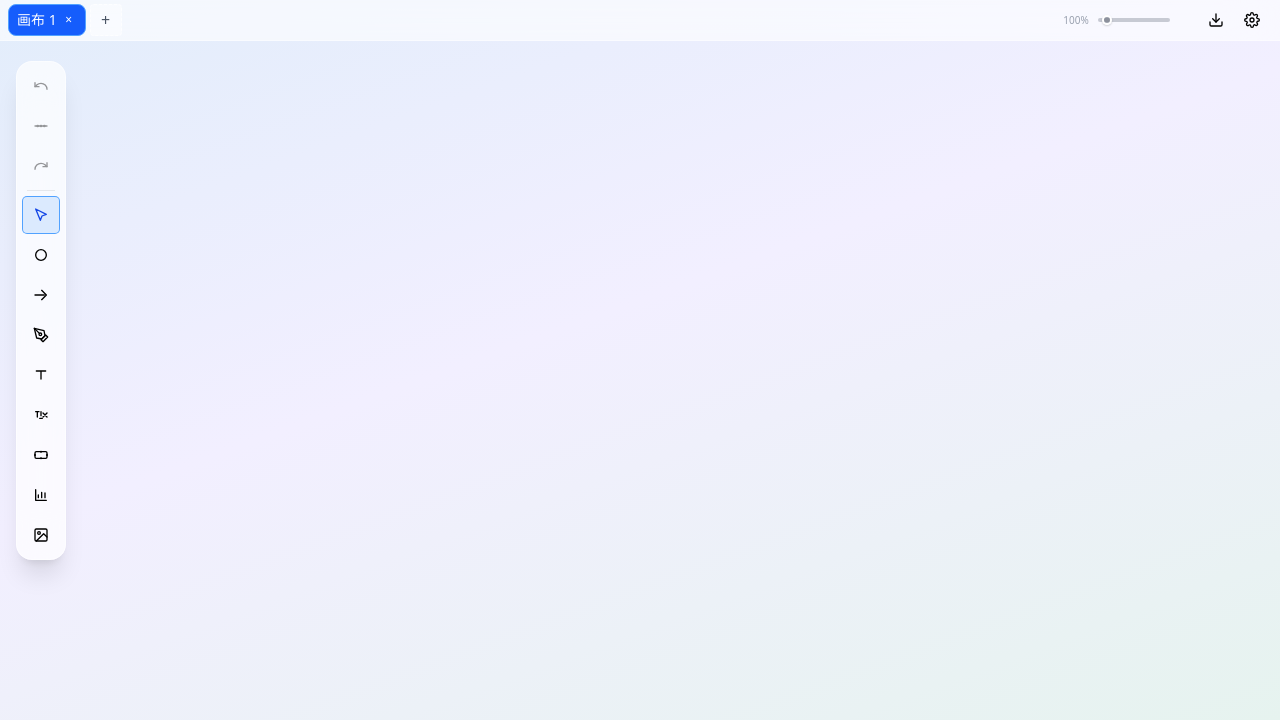
Test case: Toolbar 悬浮坞 › 点击图形按钮展开图案气泡（无逻辑分区/文字，文本框是独立按钮），再点关闭（toggle）
The width and height of the screenshot is (1280, 720).
Step 1. Click the button titled "图形" → (41, 255), box [23,237,59,273]
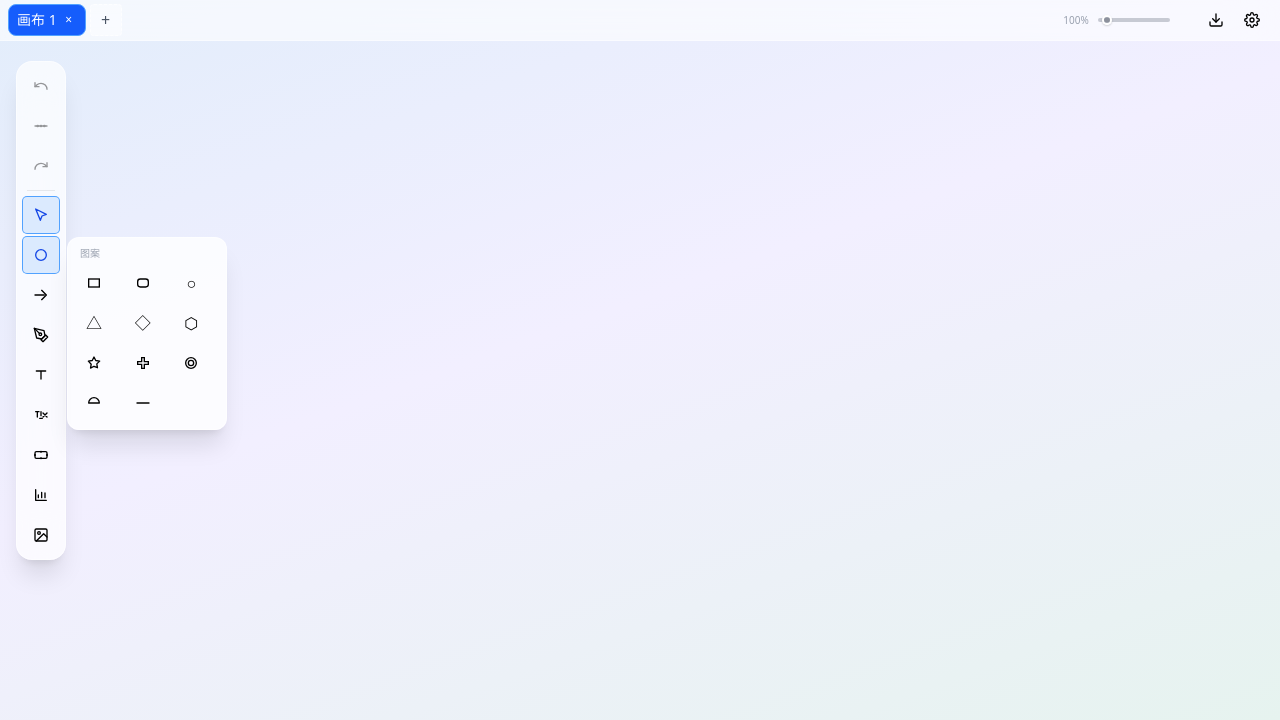
Expected: the text "图案" is shown, [80,246,100,260]
Expected: the button titled "矩形" is shown, [76,265,112,301]
Expected: the button titled "线条" is shown, [125,385,161,421]
Step 2. Click the button titled "图形" → (41, 255), box [23,237,59,273]
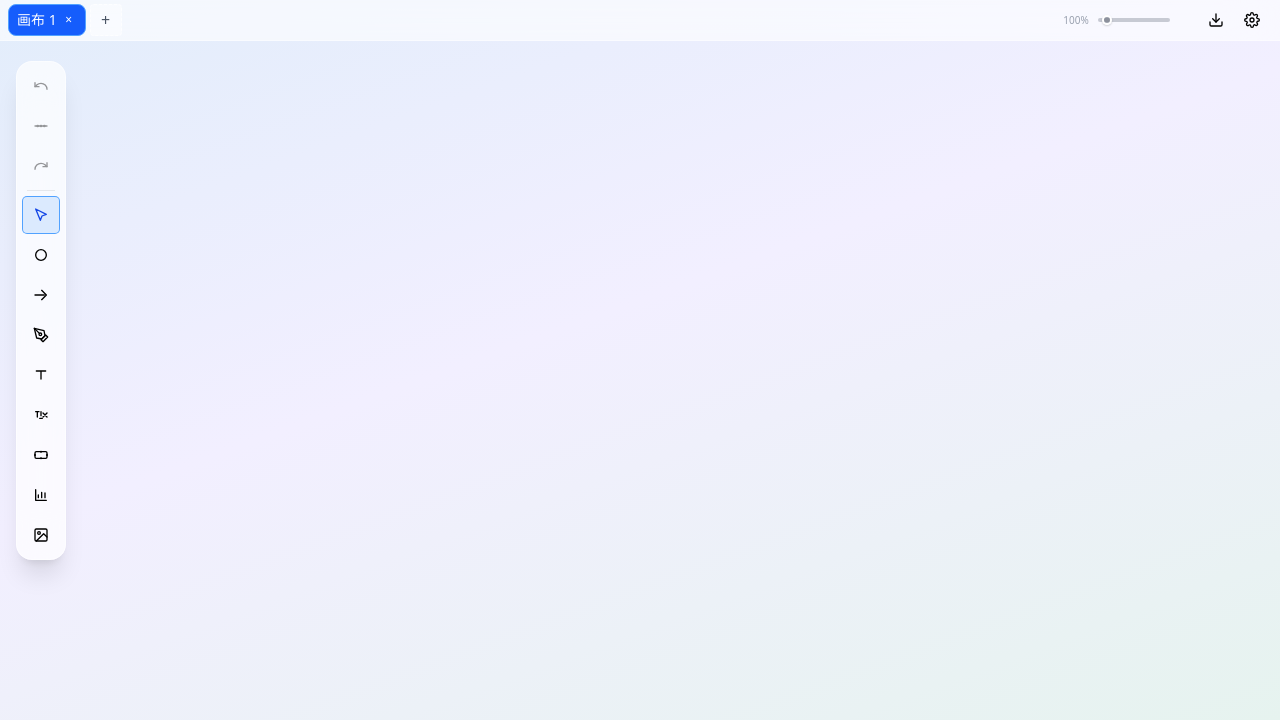
Expected: the button titled "矩形" is gone
